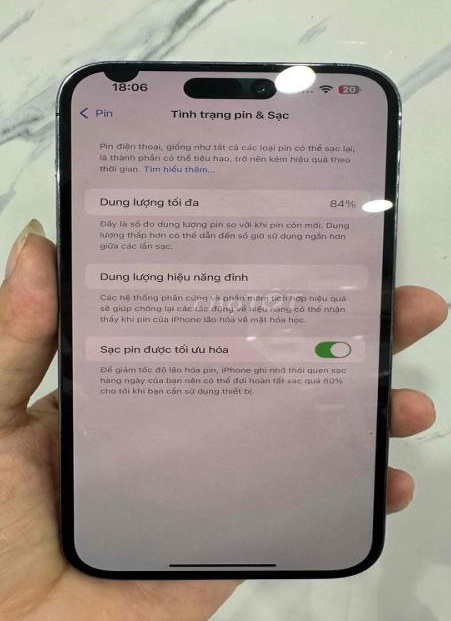scratch: (355, 191, 411, 230), (189, 55, 284, 66), (88, 57, 180, 65)
screen_defect: (78, 50, 177, 90), (257, 57, 329, 105)
